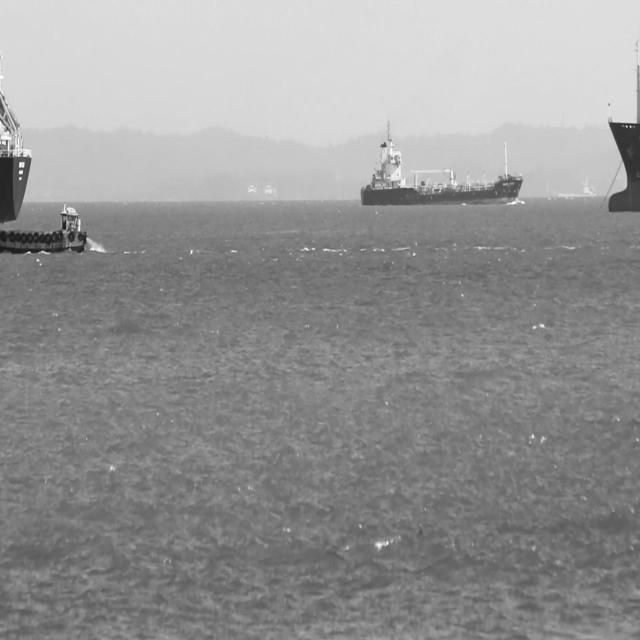ship: (359, 116, 522, 207), (607, 44, 640, 218), (0, 204, 89, 256), (0, 94, 31, 227)
